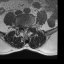CCS_normal: (25, 26, 26, 33)
LFS_severe_stenosis: (28, 25, 30, 30)
LLS_normal: (26, 26, 28, 31)
RFS_severe_stenosis: (21, 25, 23, 30)
RLS_stenosis: (23, 26, 25, 32)
